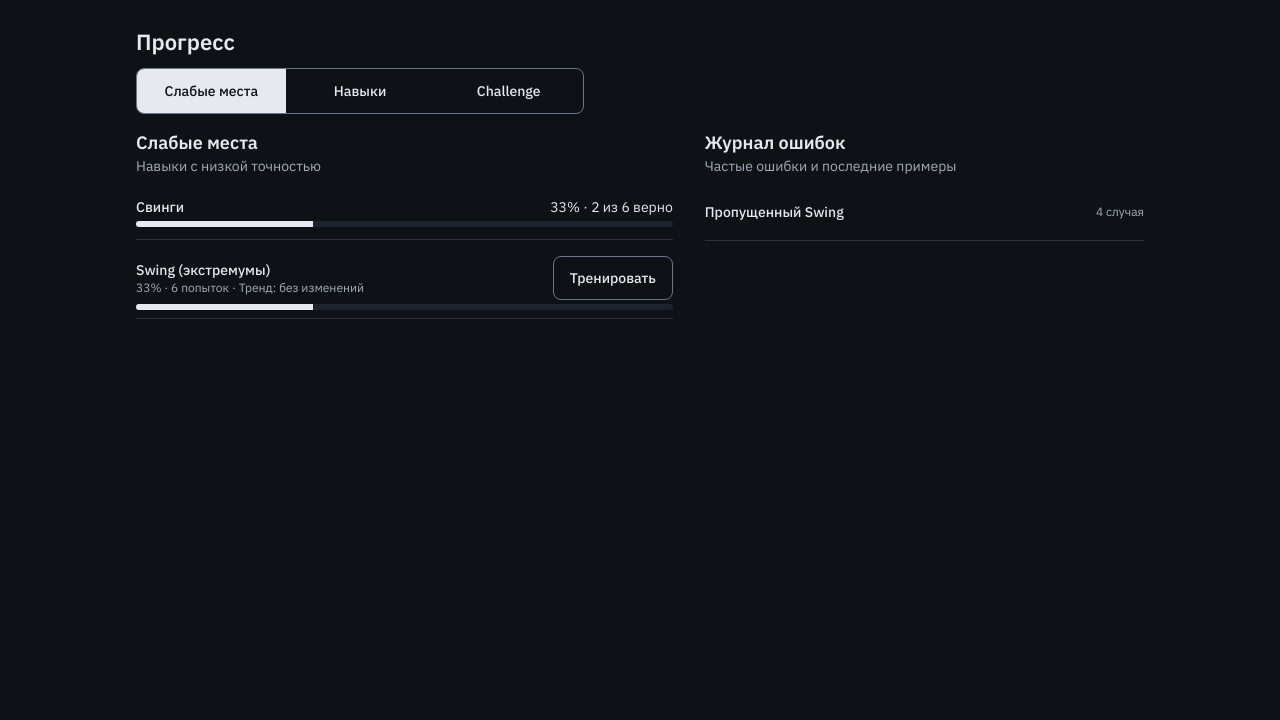
ProgressScreen с данными › слабые места, «мало данных», журнал и разбор
expect the list with test id "module-accuracy" shows "2 из 6 верно": met, box left=591, top=198, right=673, bottom=216
Click the button "Пропущенный Swing 4 случая" at (774, 212), box left=705, top=184, right=1144, bottom=240
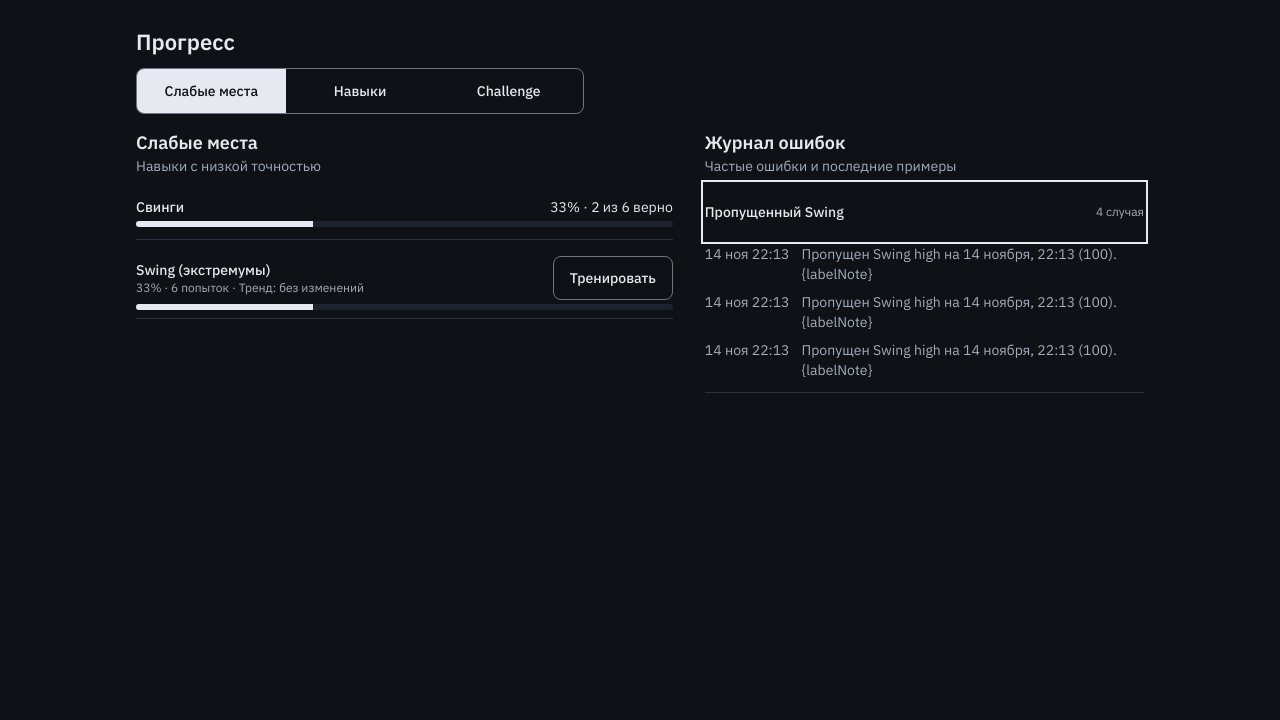
Click the button with test id "error-example" that starts with "14 ноя" at (924, 264), box left=705, top=240, right=1144, bottom=288
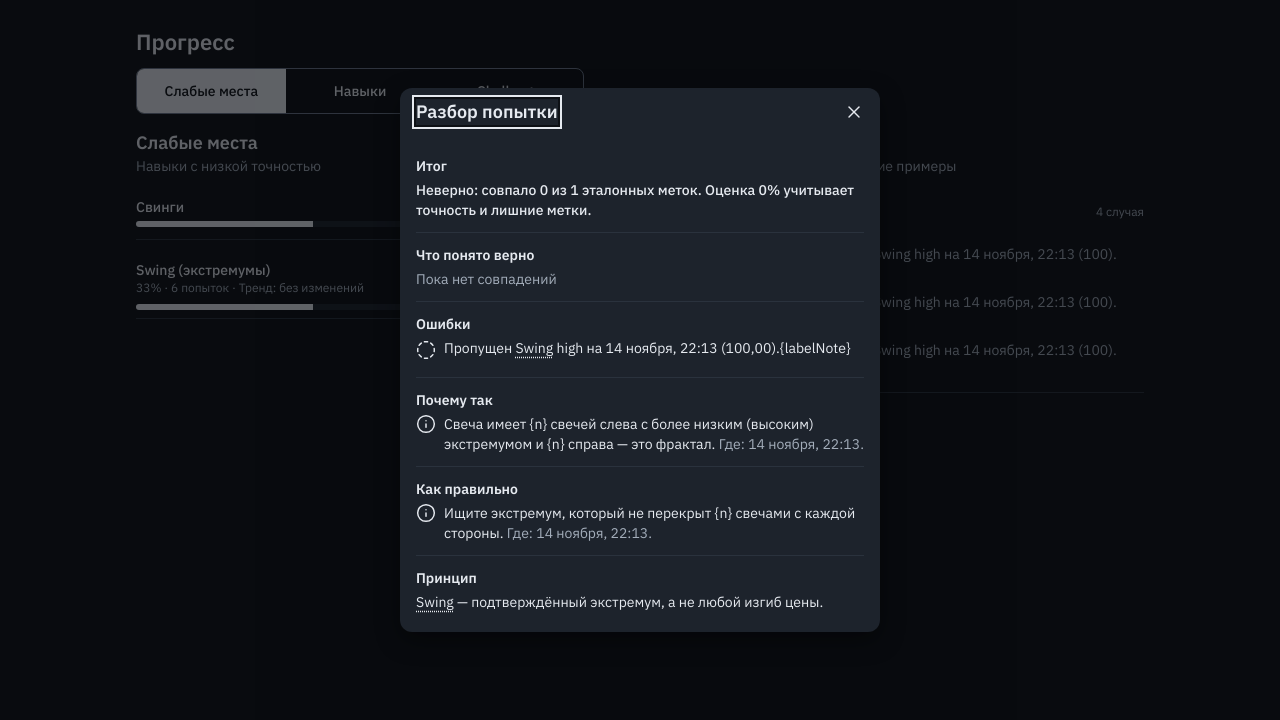
expect the element with test id "feedback-view" is shown: met, box left=416, top=144, right=864, bottom=624
